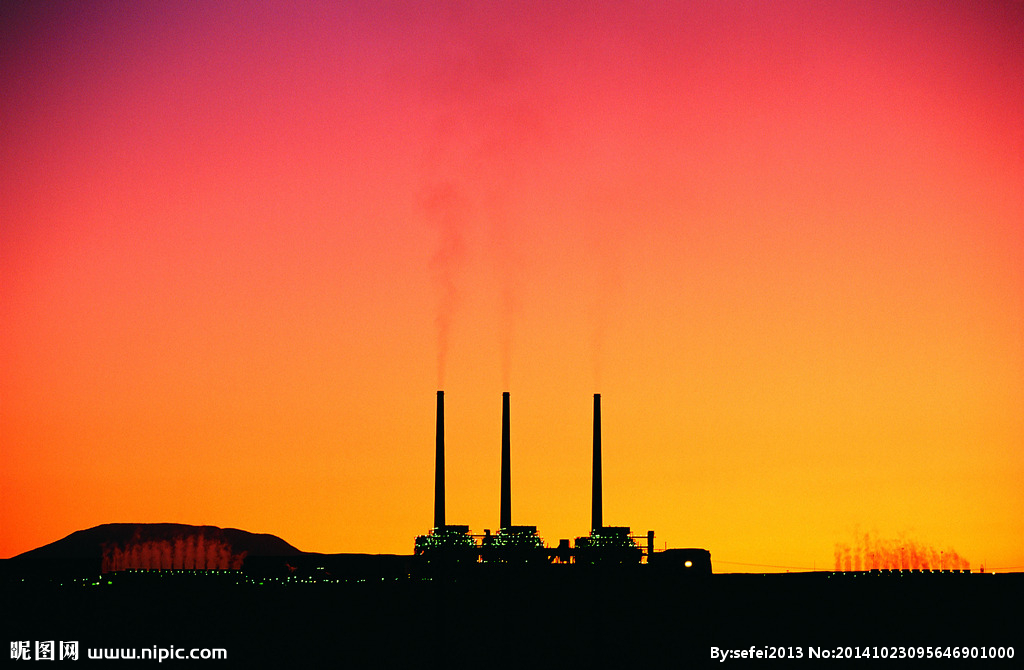dust: (403, 275, 474, 391)
